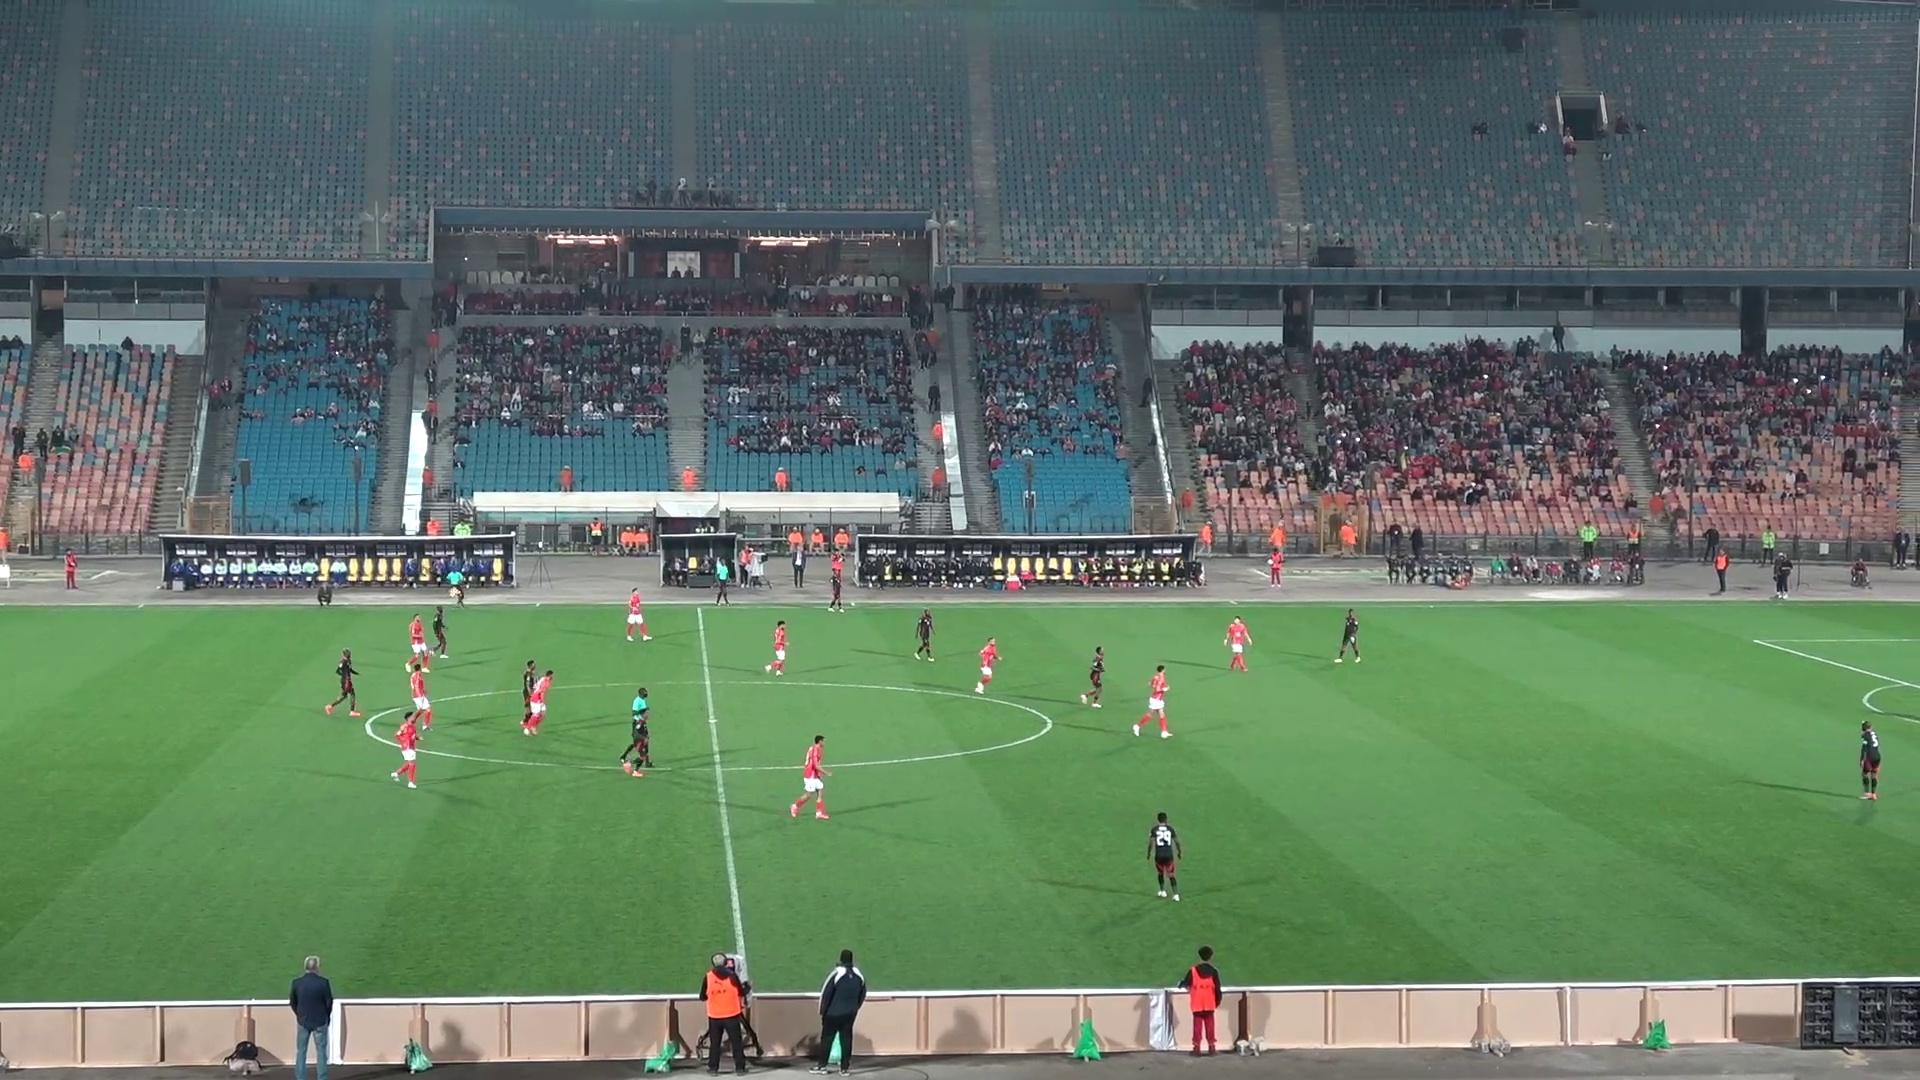Refree: (625, 687, 651, 749), (438, 556, 468, 604), (713, 550, 735, 604)
Team1: (790, 735, 829, 820), (1131, 665, 1171, 738), (392, 709, 425, 789), (520, 671, 553, 735), (407, 609, 444, 665), (407, 654, 433, 728), (1224, 617, 1253, 673), (975, 640, 1001, 694), (764, 620, 789, 675), (625, 588, 651, 640)
Team2: (1145, 812, 1182, 897), (324, 647, 363, 716), (618, 709, 653, 775), (1859, 720, 1882, 800), (1077, 646, 1105, 707), (1333, 609, 1361, 662), (520, 661, 538, 733), (913, 608, 935, 661), (429, 605, 448, 658), (825, 568, 847, 611)
